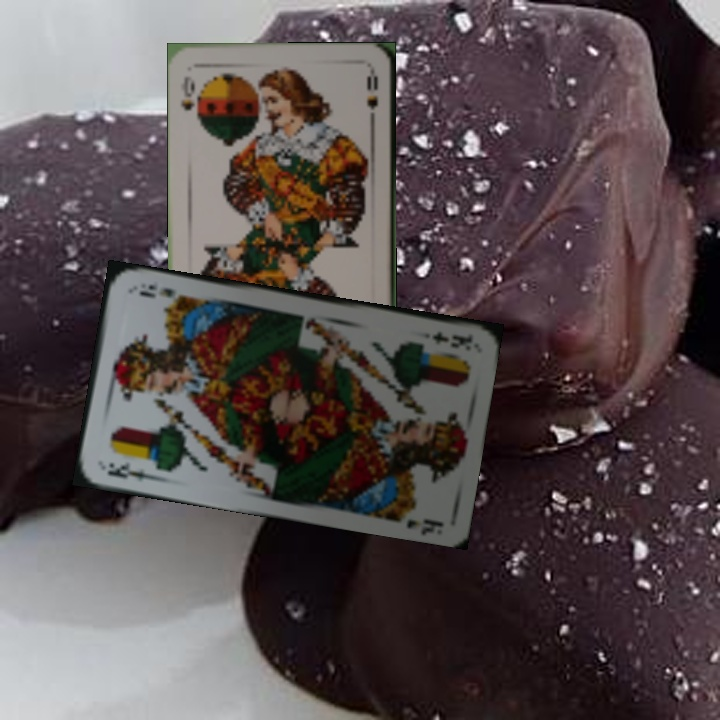EK: (103, 458, 158, 484), (427, 327, 475, 351)
SO: (177, 72, 201, 122)
